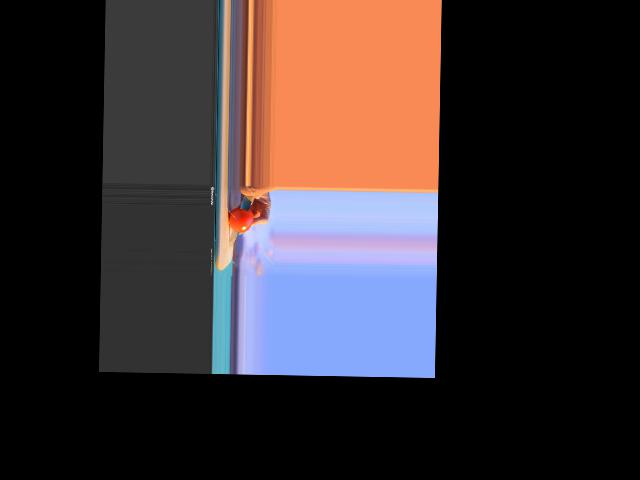tomato: (228, 207, 253, 233)
